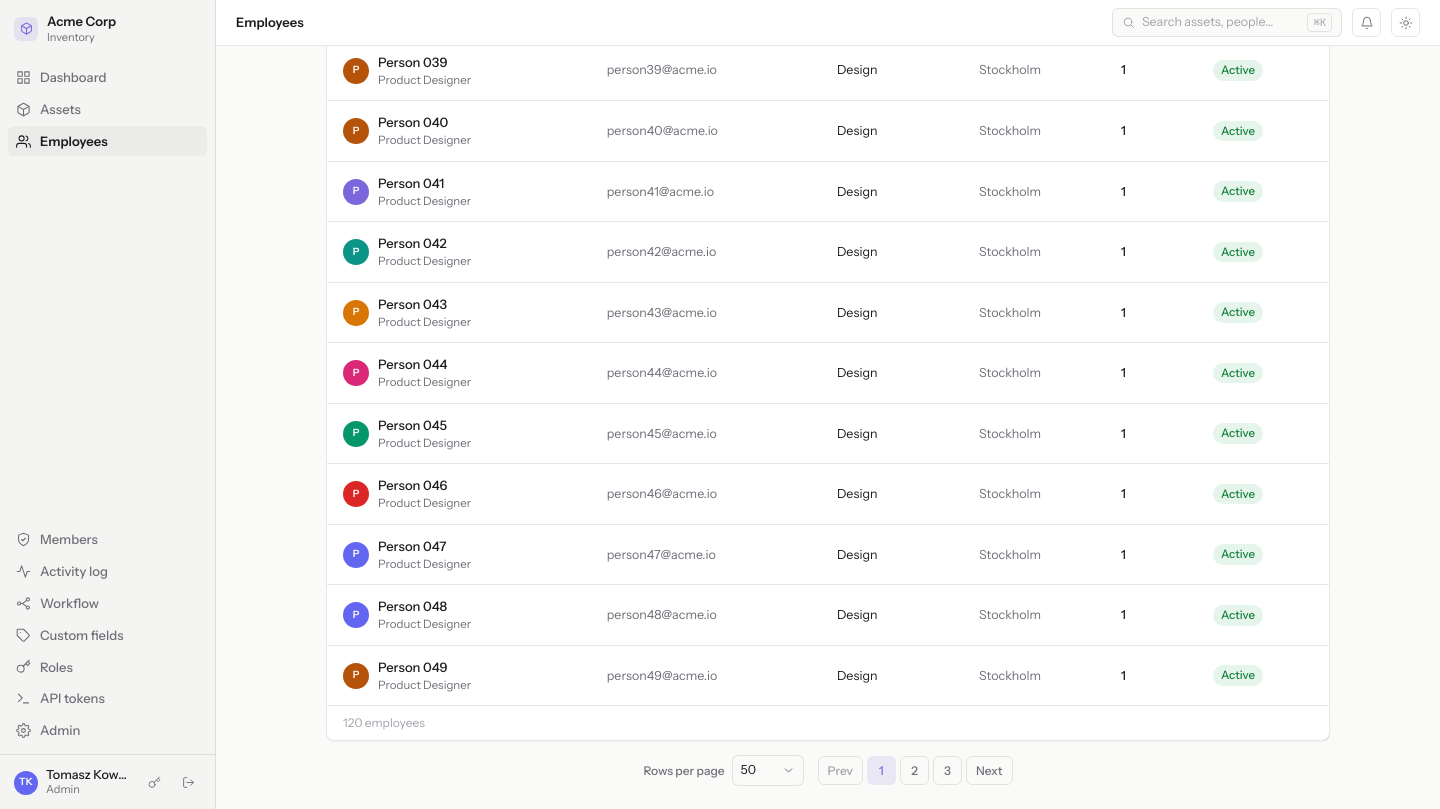
employee list › asks for one page at a time and pages through the rest
(page scrolled)
Check: the text "120 employees" is shown, box top-left (343, 716), bottom-right (425, 730)
Click the button "2".
click(914, 770)  # box top-left (900, 756), bottom-right (929, 785)
(page scrolled)
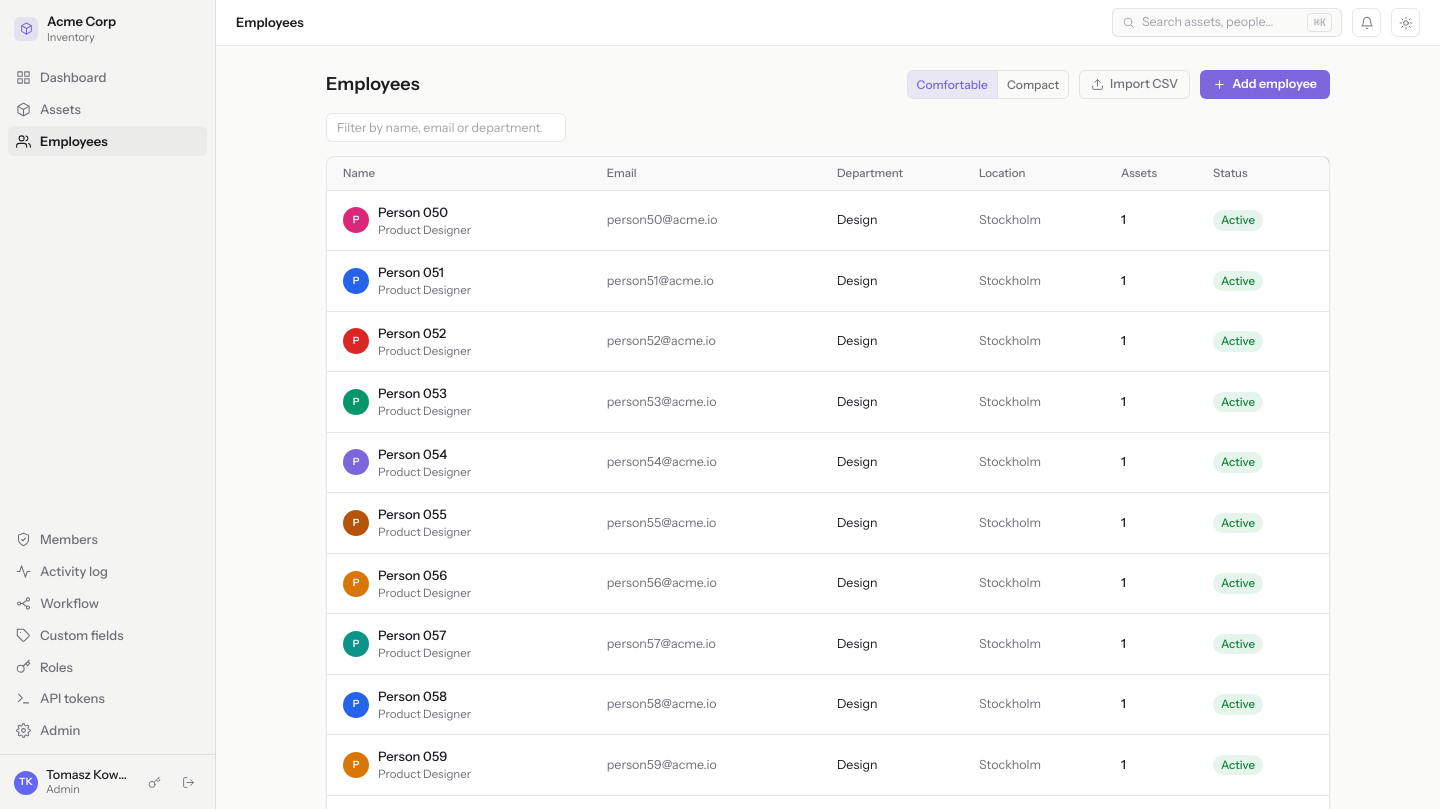
Check: the text "Person 050" is shown, box top-left (378, 204), bottom-right (448, 220)
